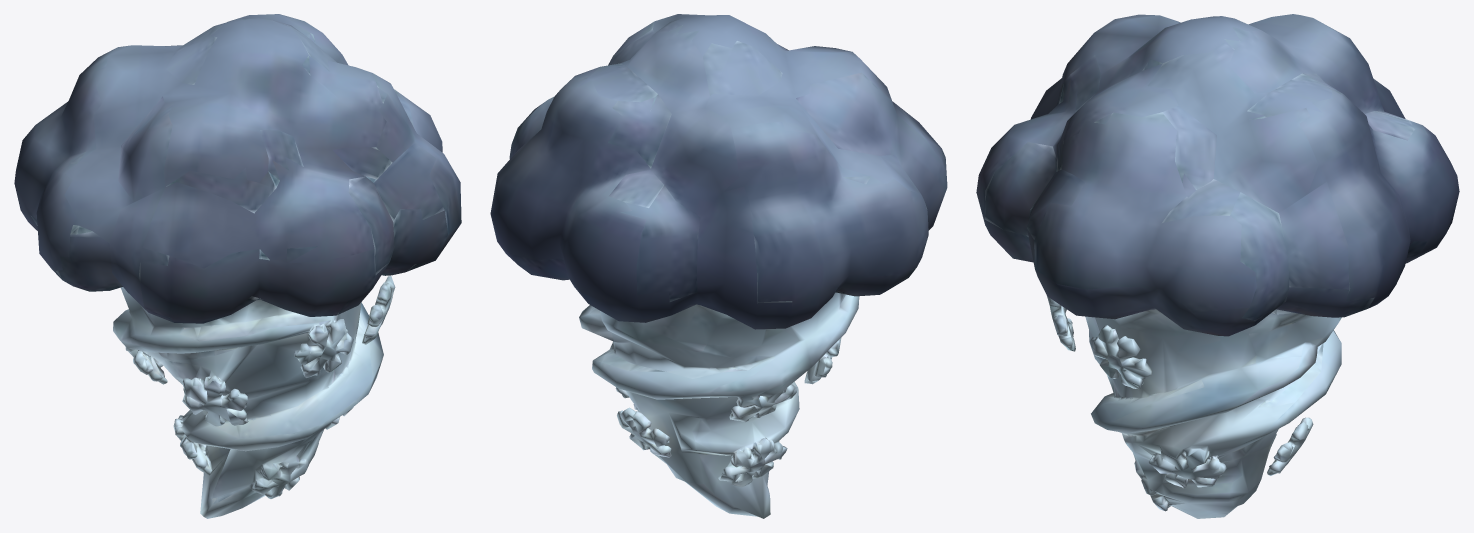
File: blizzard-diet.glb
3 renders of one model, left to right at view 1: azimuth 30°, elevation 25°; view 2: azimuth 150°, elevation 25°; view 3: azimuth 270°, elevation 25°, orthographic. The views are drawn at different scales.
Parts seen in each view (by area): view 1: Mesh_0; view 2: Mesh_0; view 3: Mesh_0.
Part boxes in pixels (x1,y1,x2,y2): Mesh_0: (14,14,461,518); Mesh_0: (490,14,947,518); Mesh_0: (976,14,1459,518).
Size of the model in its own units: 1.61 by 1.89 by 1.63.
1 material, 1 textured.
